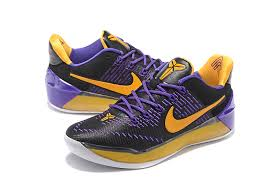nike: (162, 94, 225, 134), (69, 68, 141, 94)
